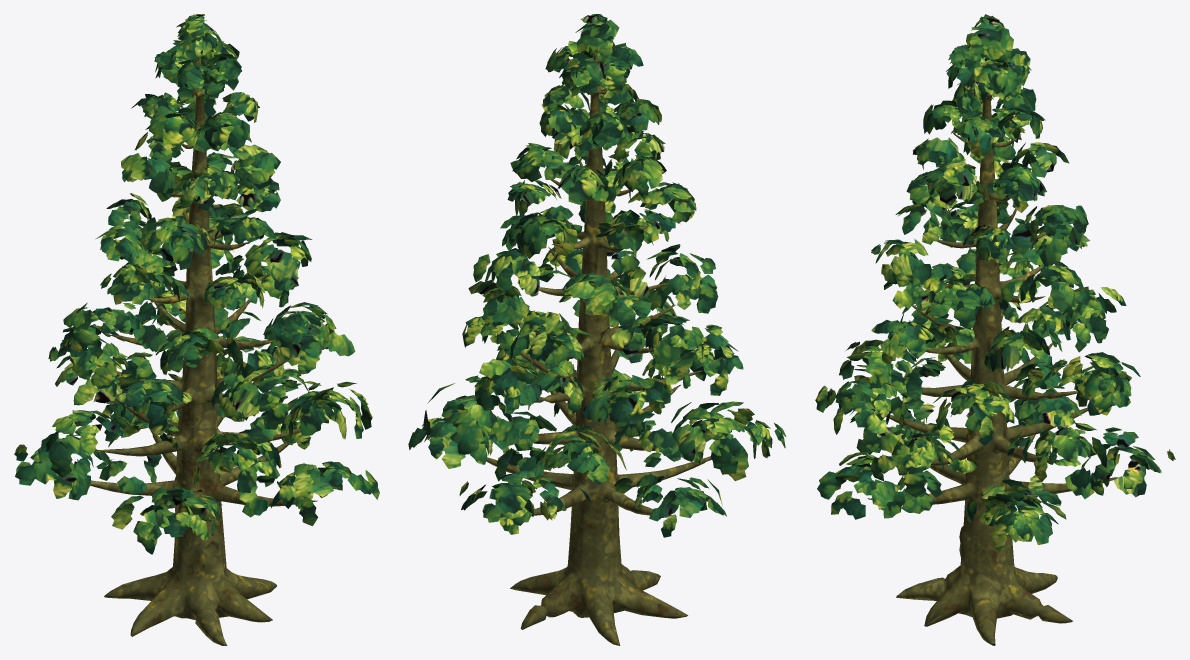
Rendered from tall_pine_lod1.glb.
3 renders of one model, left to right at view 1: azimuth 30°, elevation 25°; view 2: azimuth 150°, elevation 25°; view 3: azimuth 270°, elevation 25°, orthographic.
Parts seen in each view (by area): view 1: Leaves_LOD1.004, Trunk_LOD1.004; view 2: Leaves_LOD1.004, Trunk_LOD1.004; view 3: Leaves_LOD1.004, Trunk_LOD1.004.
Part boxes in pixels (left/top/right/bottom): Leaves_LOD1.004: left=14, top=14, right=379, bottom=554; Trunk_LOD1.004: left=77, top=57, right=317, bottom=645; Leaves_LOD1.004: left=408, top=14, right=786, bottom=537; Trunk_LOD1.004: left=486, top=54, right=711, bottom=645; Leaves_LOD1.004: left=815, top=14, right=1175, bottom=553; Trunk_LOD1.004: left=867, top=56, right=1118, bottom=645.
Bounding box in the file's own units: 5.2 × 9.25 × 5.12.
2 materials, 2 textured.
